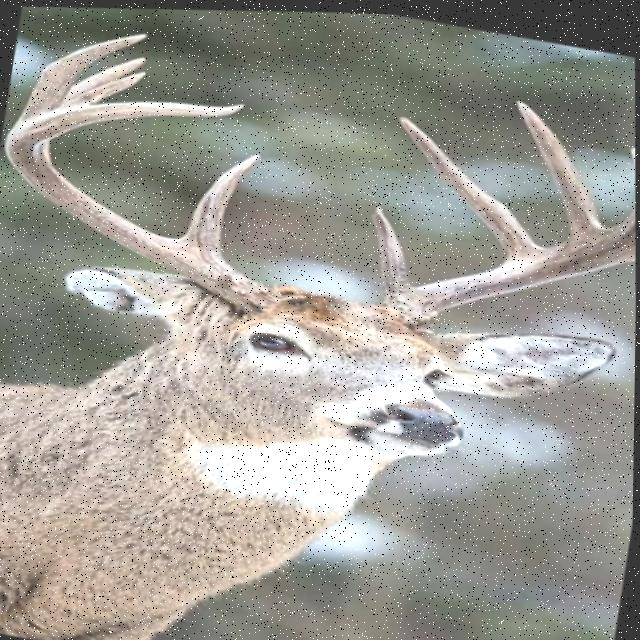L-F: (3, 100, 279, 309)
L-G1: (176, 151, 262, 266)
R-F: (389, 203, 636, 320)
R-G1: (370, 202, 412, 294)
R-G2: (396, 112, 553, 255)
R-G3: (513, 94, 610, 234)
